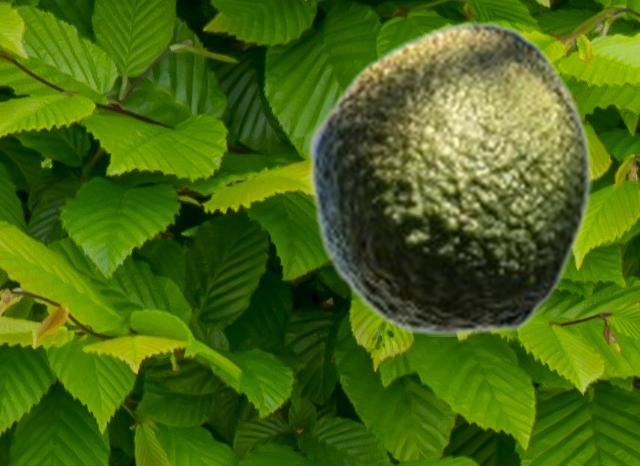avocado: (307, 21, 591, 335)
